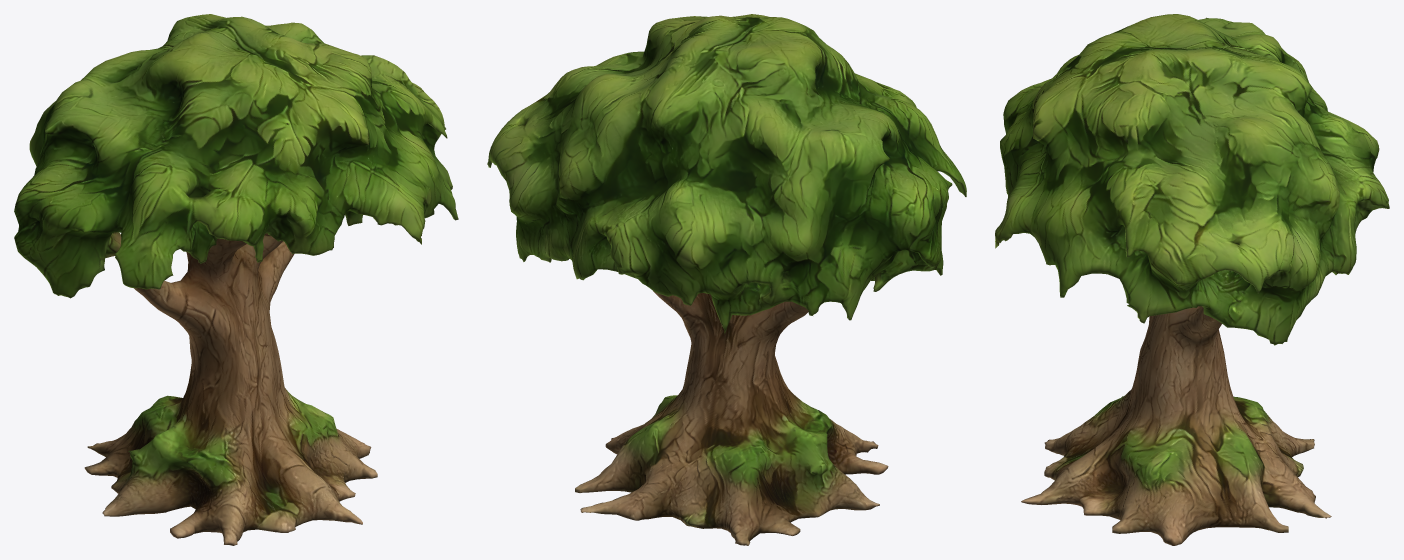
Rendered from tree-coastal-hyper3d.glb.
The picture shows the model from 3 angles, left to right: view 1: azimuth 30°, elevation 25°; view 2: azimuth 150°, elevation 25°; view 3: azimuth 270°, elevation 25°; orthographic projection.
Parts seen in each view (by area): view 1: model; view 2: model; view 3: model.
Boxes of the visible parts, left/top/right/bottom form: model: left=14, top=14, right=458, bottom=545; model: left=487, top=14, right=966, bottom=545; model: left=995, top=14, right=1389, bottom=545.
Size of the model in its own units: 1.82 by 1.88 by 1.49.
Materials: 1 (1 with a texture image).
